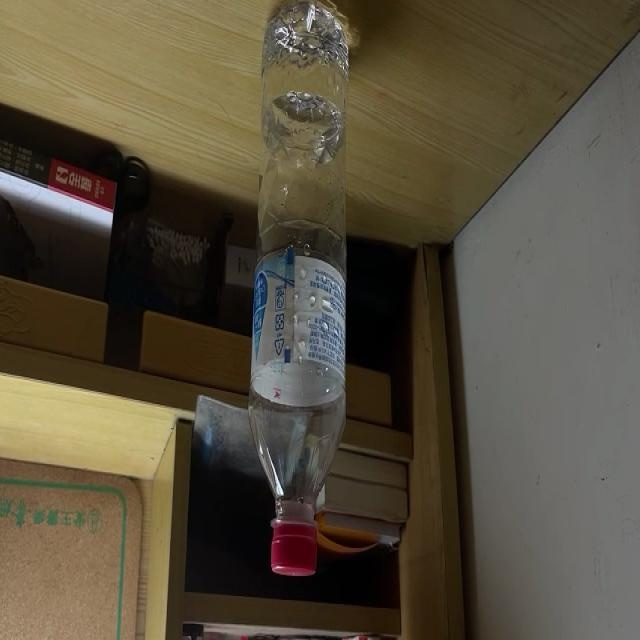Water: (250, 0, 347, 576)
